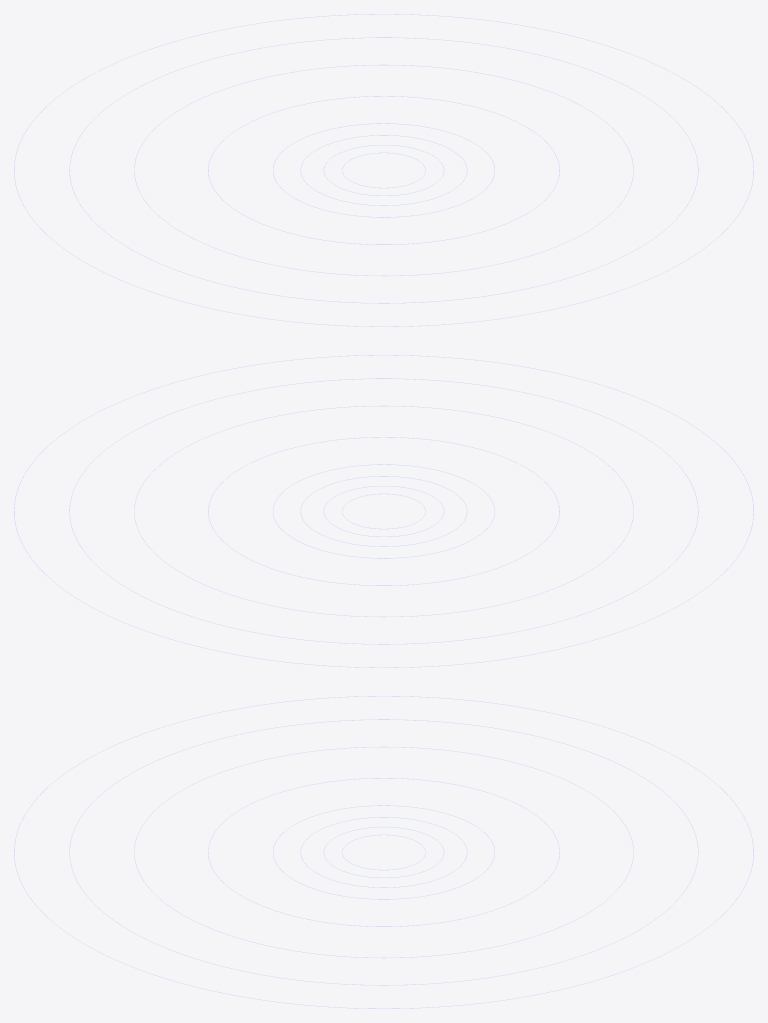
The model's file is Orbits.glb.
3 views of the same model, one above another, from view 1: azimuth 30°, elevation 25°; view 2: azimuth 150°, elevation 25°; view 3: azimuth 270°, elevation 25° (orthographic).
Visible parts, largest first — view 1: Neptune_Orbit, Uranus_Orbit, Saturn_Orbit, Jupiter_Orbit, Mars_Orbit; view 2: Neptune_Orbit, Uranus_Orbit, Saturn_Orbit, Jupiter_Orbit, Mars_Orbit; view 3: Neptune_Orbit, Uranus_Orbit, Saturn_Orbit, Jupiter_Orbit, Mars_Orbit.
Boxes of the visible parts, x1,y1,x2,y2 form: Neptune_Orbit: (14,14,753,326); Uranus_Orbit: (69,37,698,303); Saturn_Orbit: (134,64,633,276); Jupiter_Orbit: (208,96,559,244); Mars_Orbit: (273,123,494,217); Neptune_Orbit: (14,355,753,667); Uranus_Orbit: (69,378,698,644); Saturn_Orbit: (134,405,633,617); Jupiter_Orbit: (208,437,559,585); Mars_Orbit: (273,464,494,558); Neptune_Orbit: (14,696,753,1008); Uranus_Orbit: (69,719,698,985); Saturn_Orbit: (134,746,633,958); Jupiter_Orbit: (208,778,559,926); Mars_Orbit: (273,805,494,899).
Size of the model in its own units: 160 by 0.1022 by 160.
